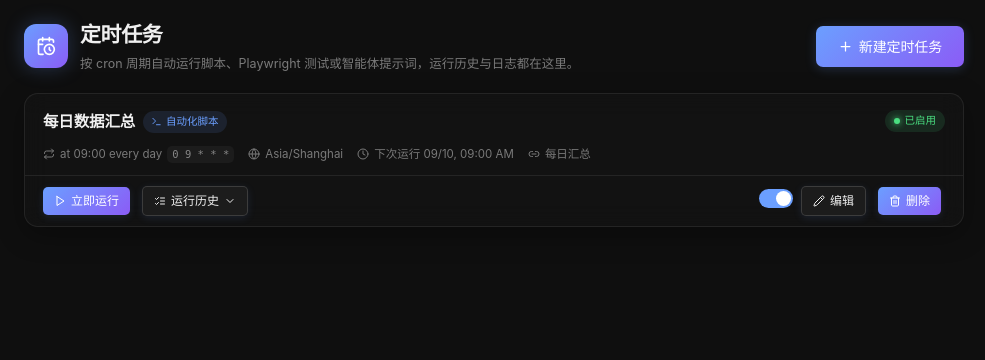
Test case: SchedulesPage › expands run history and offers a log link only for script runs
This screenshot has width=985, height=360.
Click the button "运行历史" at (195, 201), box [142,186,248,216]
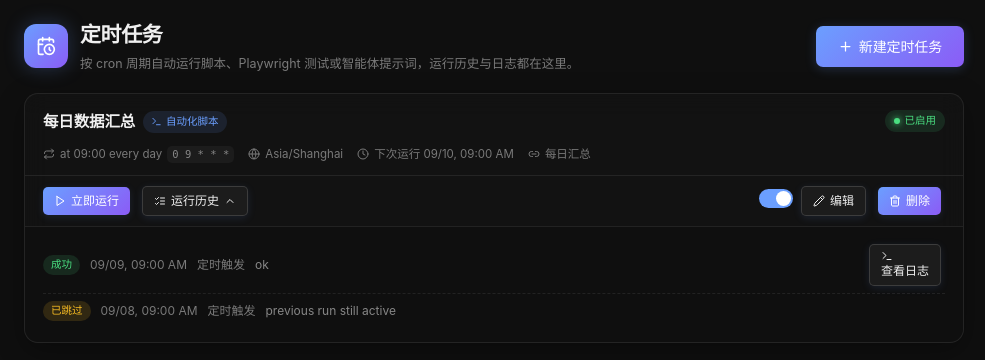
Expected: the element showing "成功 09/09, 09:00 AM 定时触发 ok 查看日志" is shown, [43,237,945,294]
Expected: the button "查看日志" is shown, [869,244,941,286]
Expected: the element showing "已跳过 09/08, 09:00 AM 定时触发 previous run still active" is shown, [43,301,396,321]
